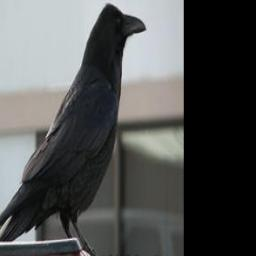Crow: (0, 1, 147, 256)
